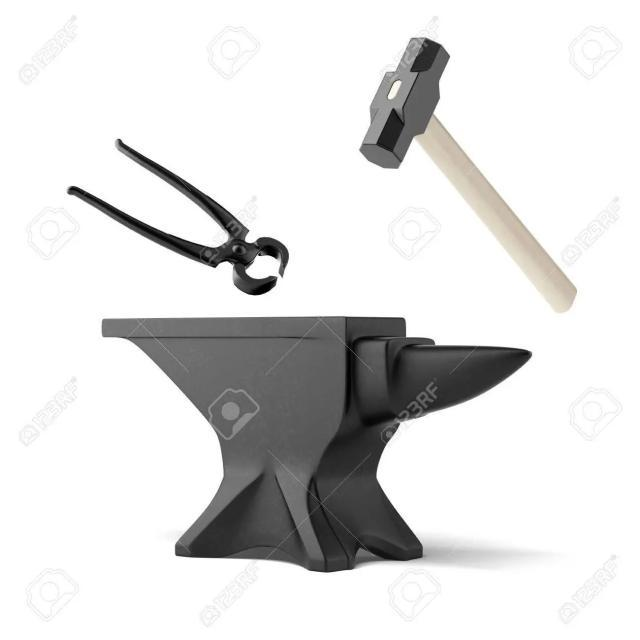hammer: (351, 24, 585, 321)
